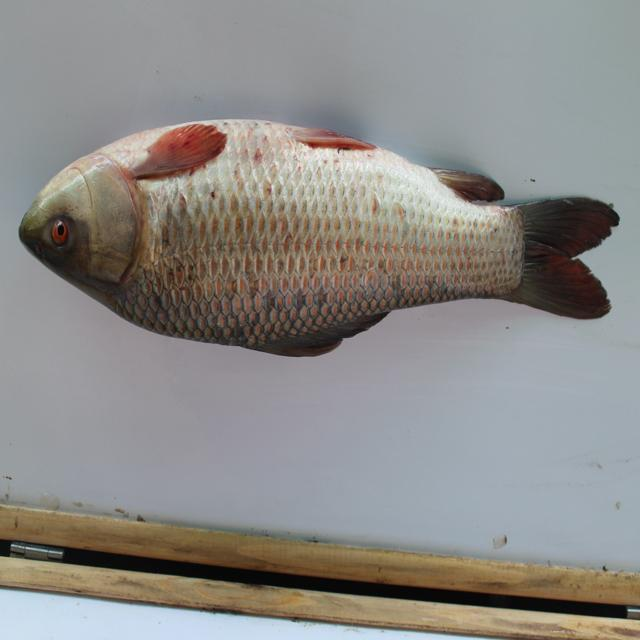Rohu: (16, 111, 628, 360)
